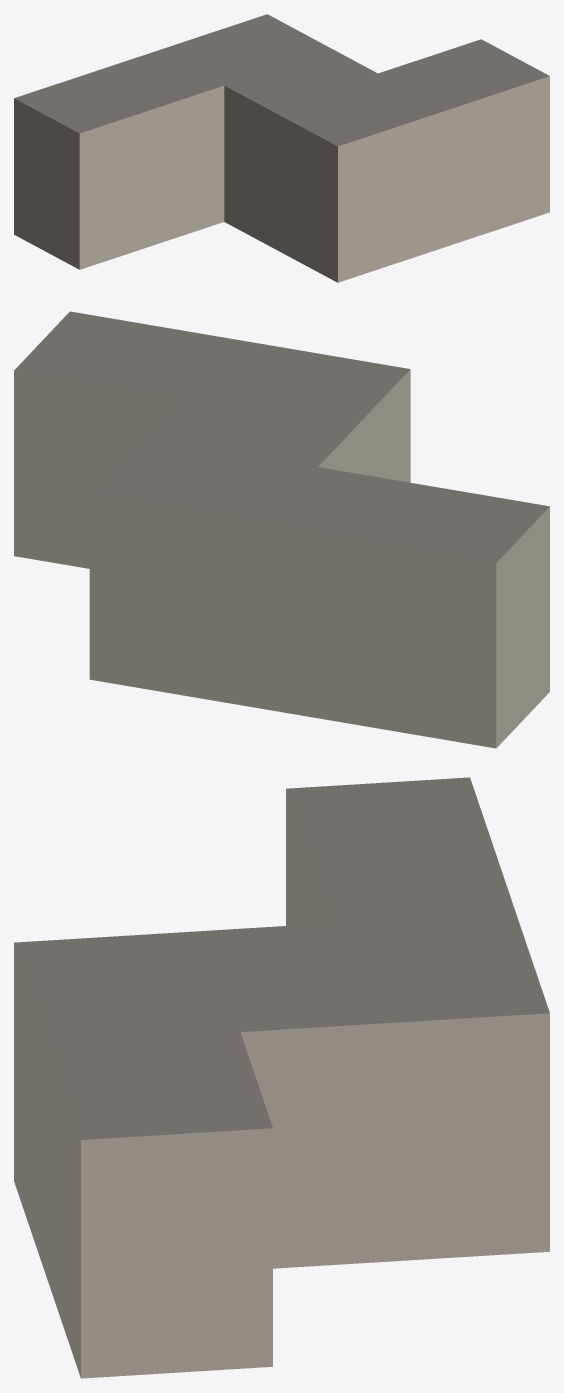
3 views of the same model, one above another, from view 1: azimuth 30°, elevation 25°; view 2: azimuth 150°, elevation 25°; view 3: azimuth 270°, elevation 25° (orthographic). The views are drawn at different scales.
Parts seen in each view (by area): view 1: HP-w859488796; view 2: HP-w859488796; view 3: HP-w859488796.
Boxes of the visible parts, x1,y1,x2,y2 form: HP-w859488796: (14,14,549,282); HP-w859488796: (14,311,549,748); HP-w859488796: (14,777,549,1378).
Bounding box in the file's own units: 58.68 × 18 × 36.65.
